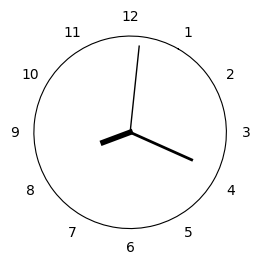12: (122, 9, 138, 22)
circle: (34, 36, 226, 228)
hours: (100, 130, 133, 145)
minutes: (132, 132, 193, 161)
seconds: (130, 45, 140, 129)
